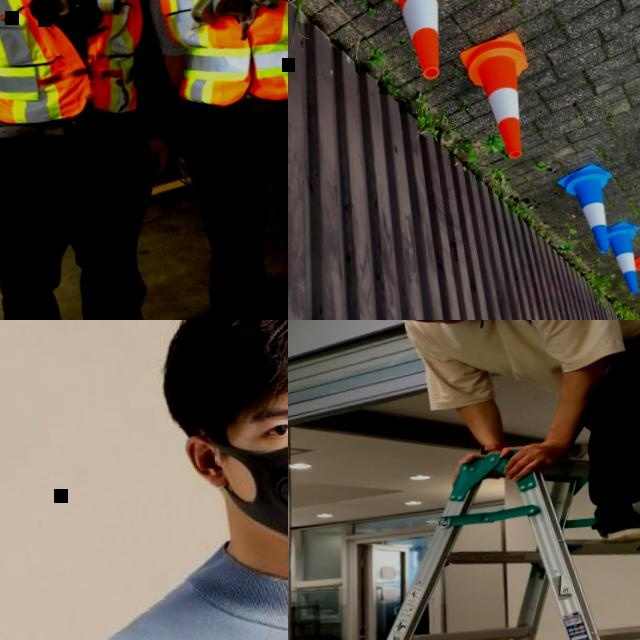Mask: (211, 413, 288, 555)
NO-Hardhat: (161, 320, 288, 412)
NO-Safety Vest: (421, 320, 640, 395)
Person: (318, 320, 640, 618), (0, 320, 288, 640), (0, 0, 191, 320), (133, 0, 288, 320), (0, 368, 82, 640)
Safety Cone: (457, 29, 538, 161), (361, 0, 473, 90), (553, 162, 618, 262), (603, 220, 640, 298)
Safety Vest: (0, 0, 157, 129), (152, 0, 288, 109)
